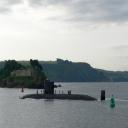submarine: (19, 81, 108, 100)
